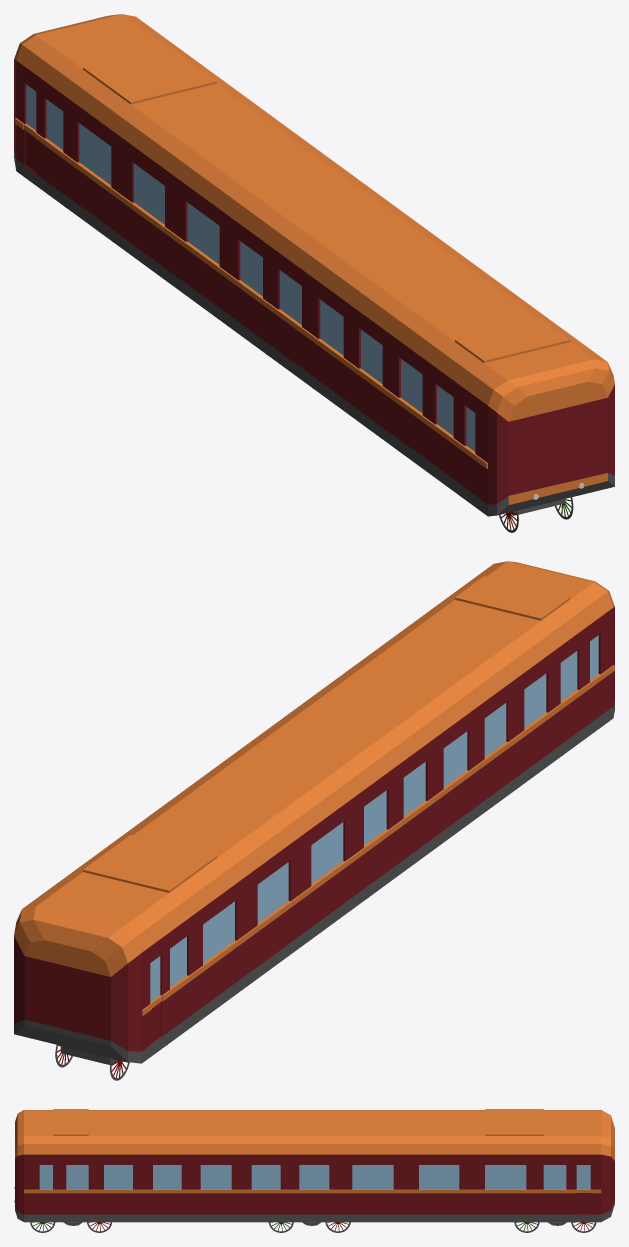
Rendered from Train cart Passen.glb.
3 views of the same model, one above another, from view 1: azimuth 30°, elevation 25°; view 2: azimuth 150°, elevation 25°; view 3: azimuth 270°, elevation 25° (orthographic). The views are drawn at different scales.
Parts seen in each view (by area): view 1: Cube.052; view 2: Cube.052; view 3: Cube.052.
Boxes of the visible parts, box(x1,y1,x2,y2) form: Cube.052: box(14, 14, 614, 516); Cube.052: box(14, 561, 614, 1063); Cube.052: box(15, 1109, 614, 1222).
Size of the model in its own units: 1.87 by 2.35 by 12.45.
